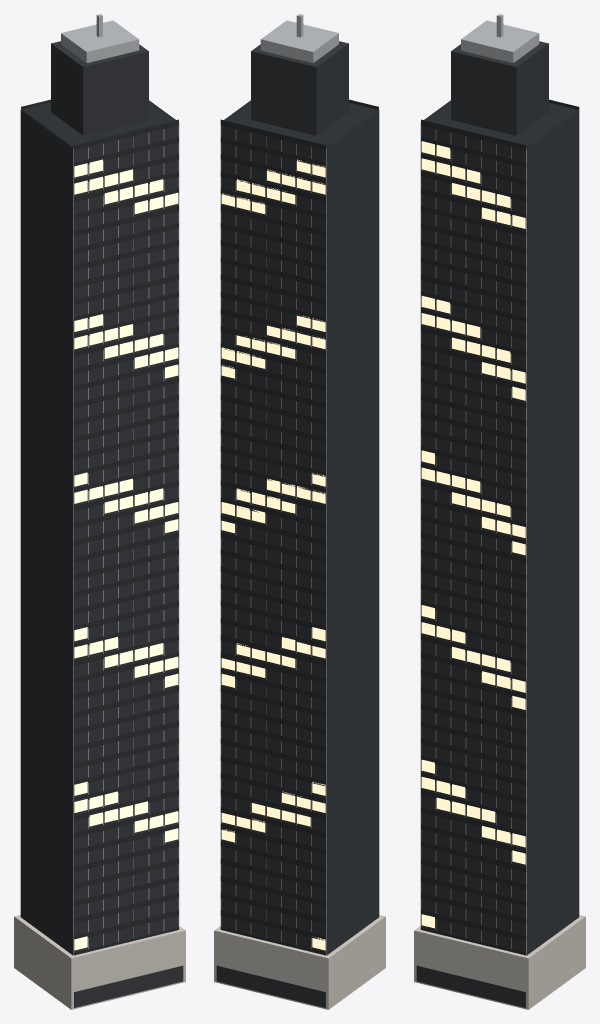
File: tower_office_grey_50.glb
3 views of the same model, side by side, from view 1: azimuth 30°, elevation 25°; view 2: azimuth 150°, elevation 25°; view 3: azimuth 330°, elevation 25° (orthographic).
Visible parts, largest first — view 1: tower_office_grey_50; view 2: tower_office_grey_50; view 3: tower_office_grey_50.
Boxes of the visible parts, box(x1,y1,x2,y2) form: tower_office_grey_50: box(14, 14, 185, 1009); tower_office_grey_50: box(214, 14, 385, 1009); tower_office_grey_50: box(414, 14, 585, 1009).
Size of the model in its own units: 25.8 by 207 by 22.54.
